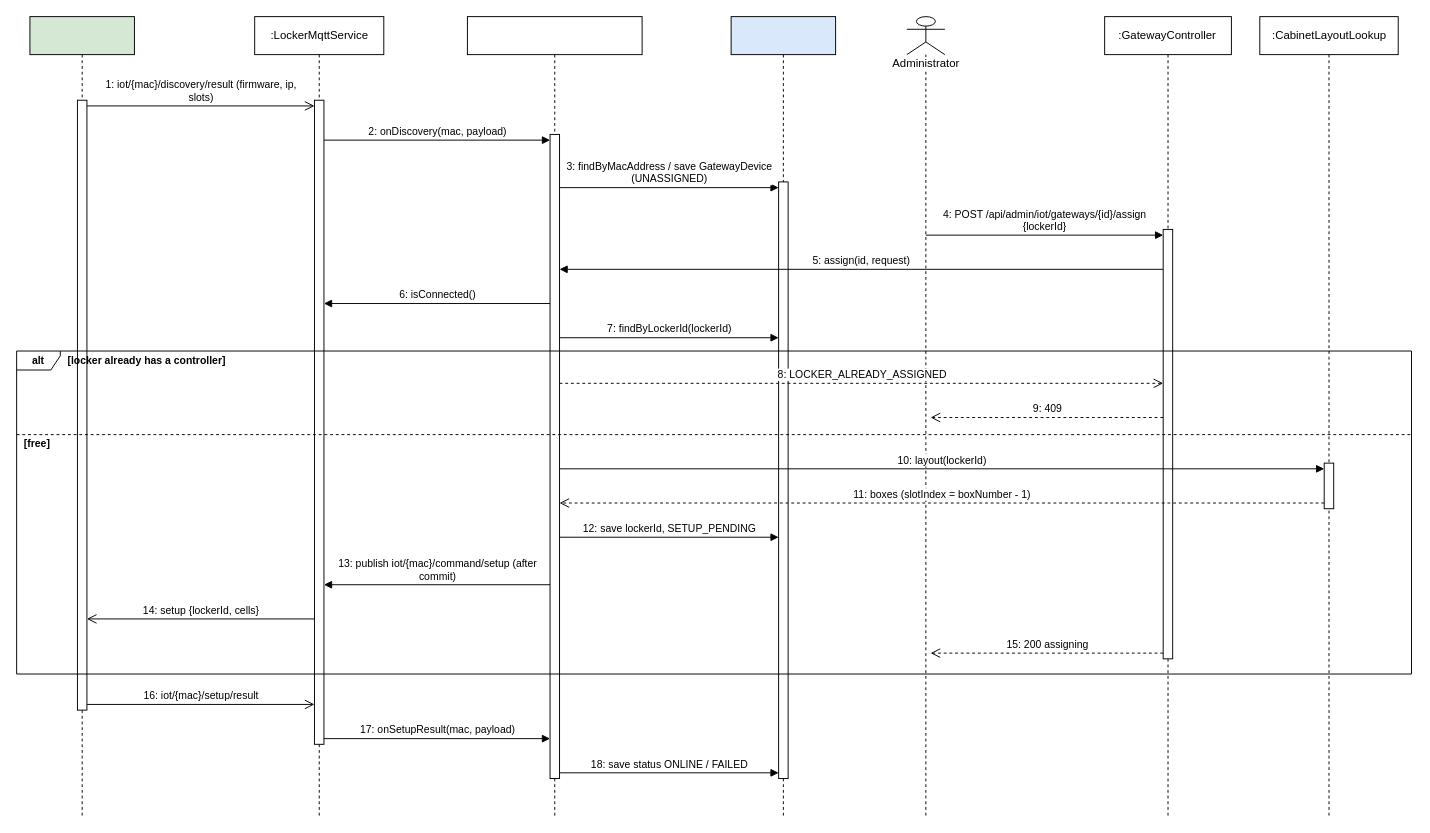
Some shapes in this 1430 by 833 pixel diagram are drawn without their labels. Here are the shapes that lost their labels. From the top down, the box of each, then its label:
(29, 16, 134, 817): :Raspberry Pi
(466, 16, 642, 817): :GatewayProvisioningService
(730, 16, 836, 817): :iot_db
